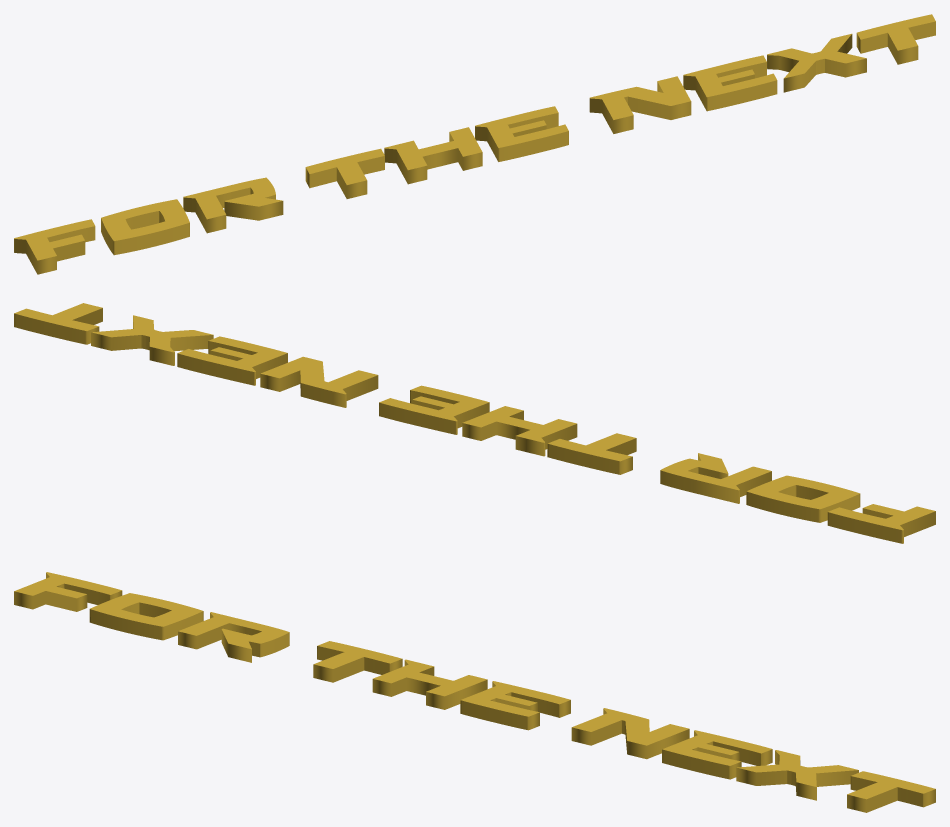
The model's file is FORTHENEXT.fbx.
3 renders of one model, top to bottom at view 1: azimuth 30°, elevation 25°; view 2: azimuth 150°, elevation 25°; view 3: azimuth 330°, elevation 25°, orthographic. The views are drawn at different scales.
Parts seen in each view (by area): view 1: 텍스트; view 2: 텍스트; view 3: 텍스트.
Boxes of the visible parts, box(x1,y1,x2,y2) form: 텍스트: box(14, 14, 935, 274); 텍스트: box(14, 303, 935, 543); 텍스트: box(14, 572, 935, 812).
Size of the model in its own units: 1100 by 16 by 61.73.
